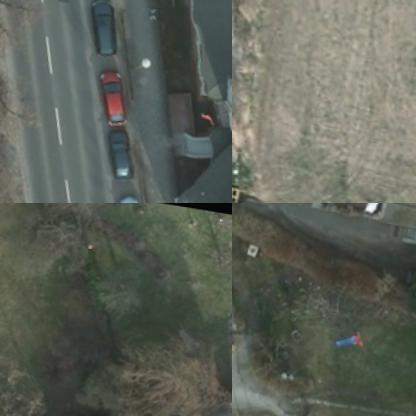car: (76, 0, 121, 58), (90, 68, 129, 127), (101, 128, 128, 182), (398, 260, 415, 307)
tractor: (232, 189, 296, 202)
